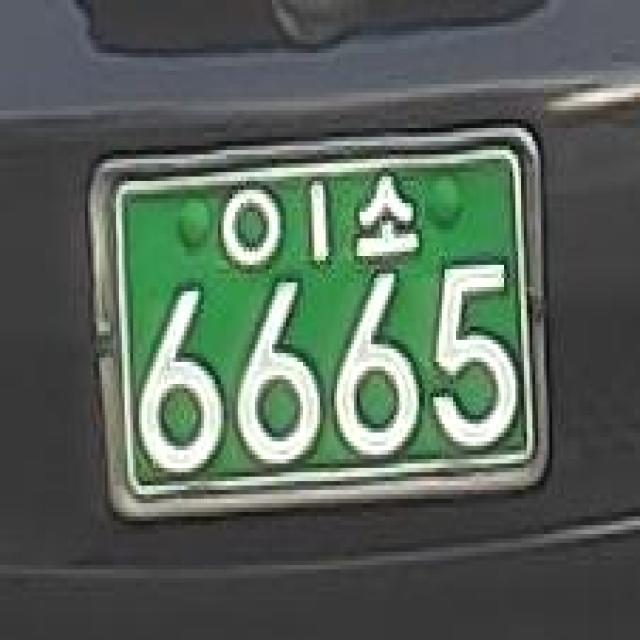illegal_plate: (87, 112, 564, 535)
